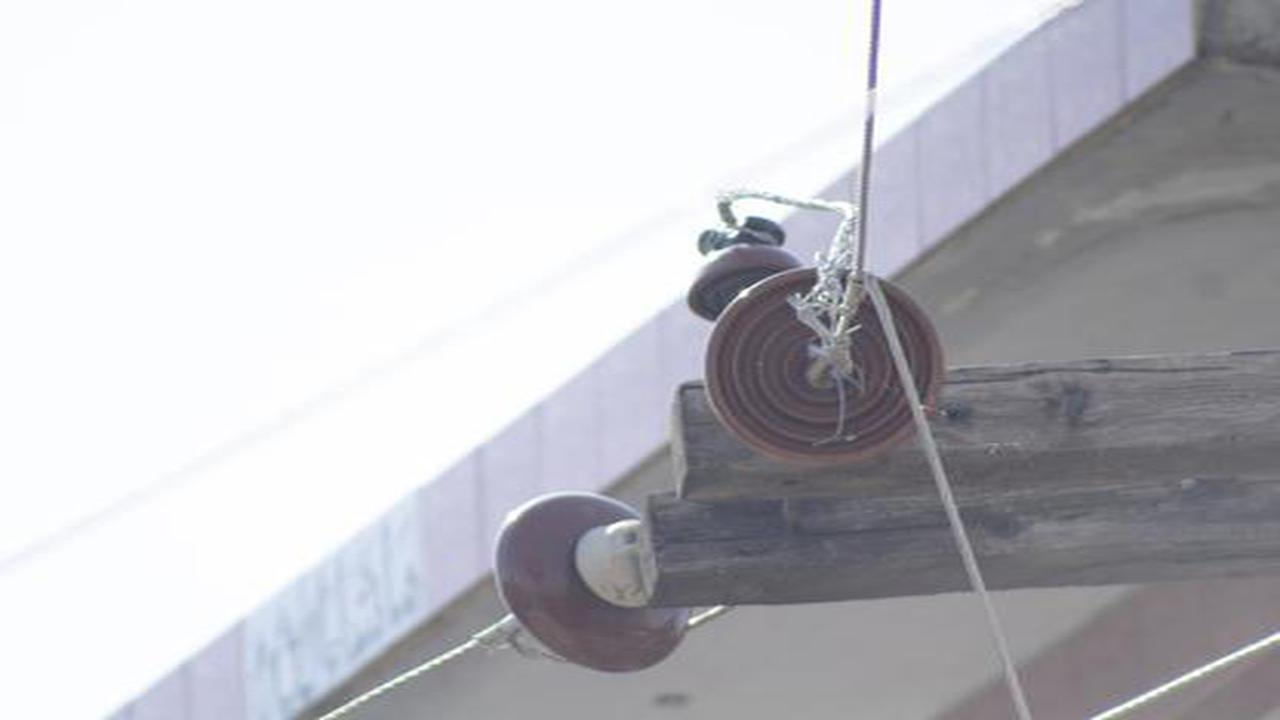insulator_disc: (701, 258, 952, 478), (488, 483, 700, 671)
insulator_pin: (682, 212, 805, 322)
